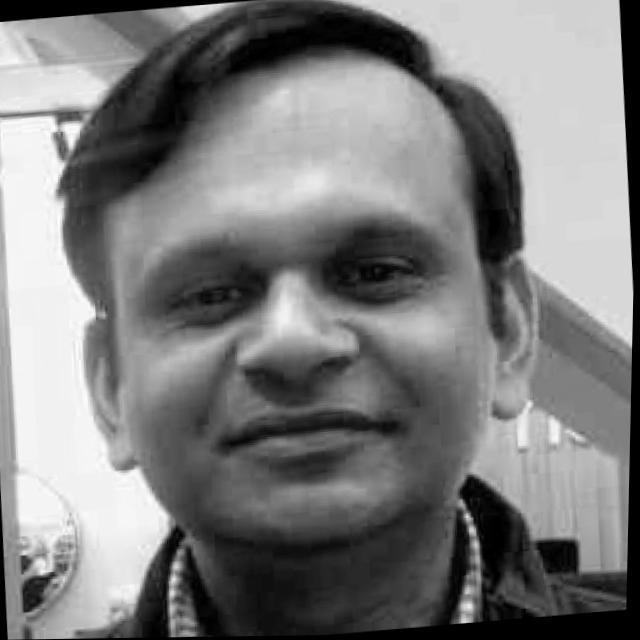puffy_eyes: (339, 281, 425, 305), (172, 303, 248, 323)
